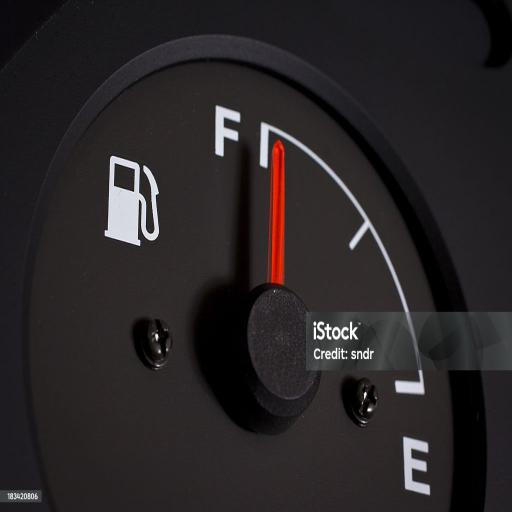empty: (401, 432, 434, 498)
fuel_icon: (103, 154, 163, 252)
full: (211, 101, 243, 161)
guage_area: (24, 31, 484, 512)
needle_center: (239, 284, 322, 425)
needle_tip: (269, 138, 292, 165)
